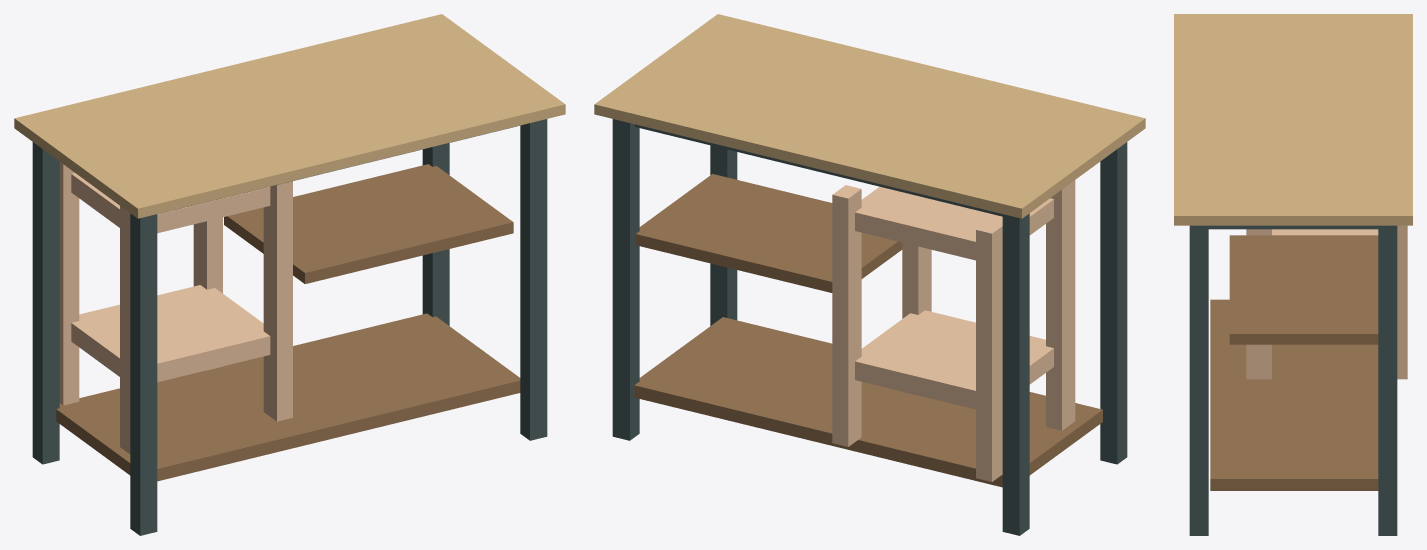
3 views of the same model, side by side, from view 1: azimuth 30°, elevation 25°; view 2: azimuth 150°, elevation 25°; view 3: azimuth 270°, elevation 25° (orthographic). The views are drawn at different scales.
Parts seen in each view (by area): view 1: countertop, whole-lower-rack, bookcaseOpenLow(Clone), right-high-rack, left-front-leg, right-front-leg, left-back-leg, right-back-leg; view 2: countertop, bookcaseOpenLow(Clone), whole-lower-rack, right-high-rack, left-back-leg, right-back-leg, left-front-leg, right-front-leg, under-top-rail; view 3: countertop, whole-lower-rack, right-high-rack, right-front-leg, right-back-leg, bookcaseOpenLow(Clone), under-top-rail.
Boxes of the visible parts, bbox=[...] form: countertop: bbox=[14, 14, 565, 218]; whole-lower-rack: bbox=[56, 313, 520, 481]; bookcaseOpenLow(Clone): bbox=[59, 162, 292, 454]; right-high-rack: bbox=[224, 164, 513, 283]; left-front-leg: bbox=[130, 213, 157, 535]; right-front-leg: bbox=[520, 119, 547, 440]; left-back-leg: bbox=[32, 142, 59, 464]; right-back-leg: bbox=[422, 143, 449, 325]; countertop: bbox=[594, 14, 1145, 218]; bookcaseOpenLow(Clone): bbox=[832, 180, 1075, 481]; whole-lower-rack: bbox=[634, 317, 1102, 487]; right-high-rack: bbox=[635, 174, 902, 292]; left-back-leg: bbox=[1002, 213, 1029, 535]; right-back-leg: bbox=[612, 119, 639, 440]; left-front-leg: bbox=[1100, 142, 1127, 464]; right-front-leg: bbox=[710, 145, 737, 325]; under-top-rail: bbox=[635, 124, 1002, 216]; countertop: bbox=[1174, 14, 1412, 225]; whole-lower-rack: bbox=[1210, 299, 1378, 490]; right-high-rack: bbox=[1229, 235, 1378, 344]; right-front-leg: bbox=[1189, 225, 1208, 535]; right-back-leg: bbox=[1378, 225, 1397, 535]; bookcaseOpenLow(Clone): bbox=[1246, 225, 1407, 379]; under-top-rail: bbox=[1208, 225, 1378, 229].
Size of the model in its own units: 1.2 by 0.9 by 0.6.
